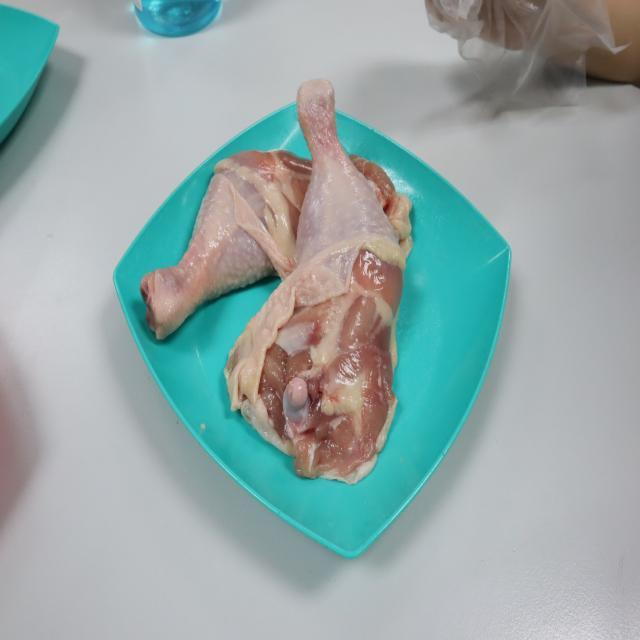quater: (259, 83, 408, 484), (130, 134, 420, 332)
